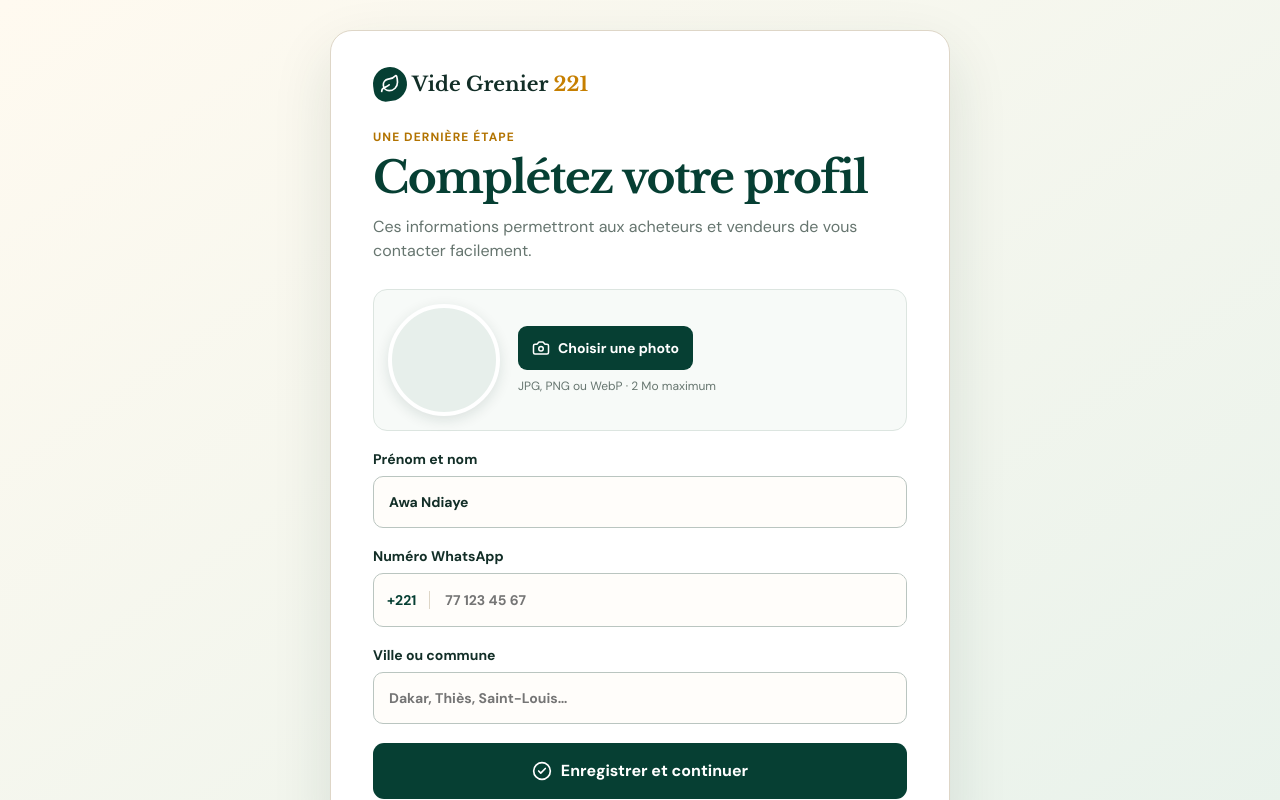
Test: profile setup page › keeps the user on the form when required fields are empty
Clear the field labelled "Prénom et nom": {"x": 640, "y": 502} left=373, top=476, right=907, bottom=528
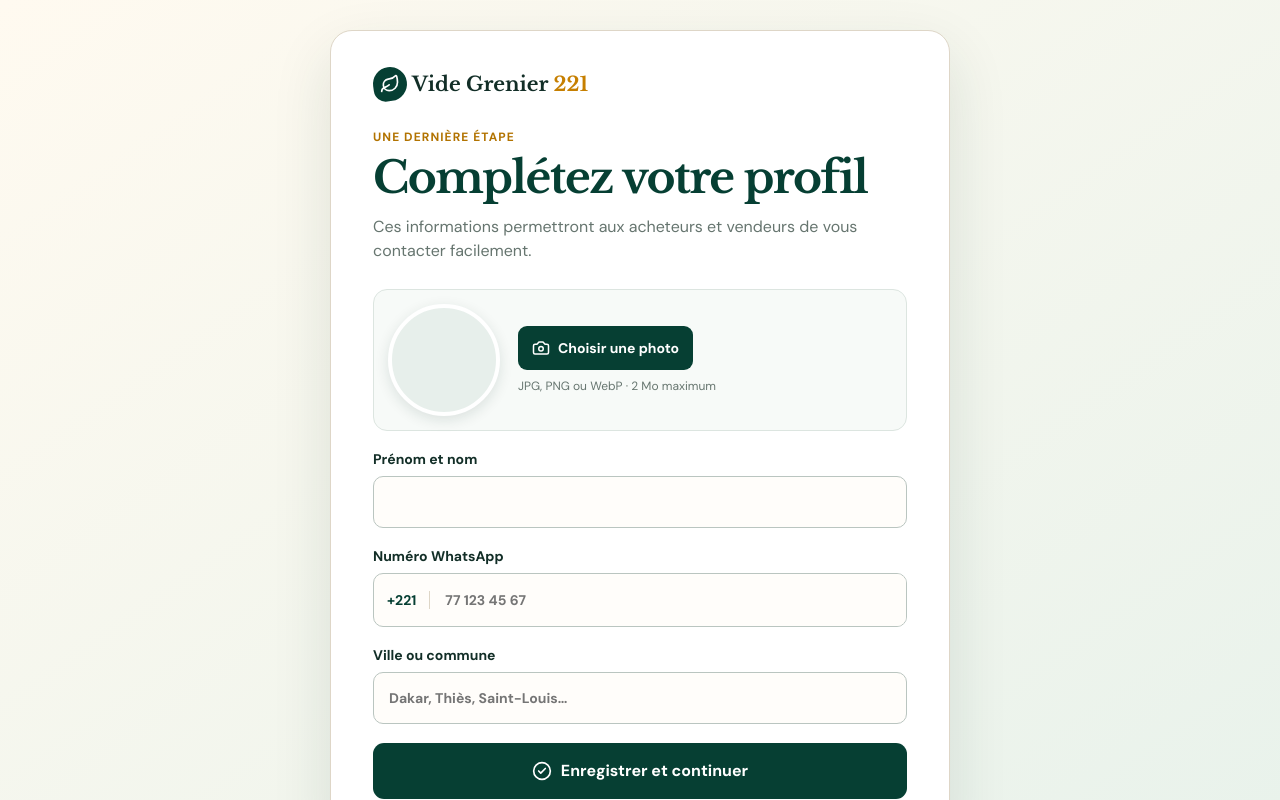
Click the button "Enregistrer et continuer": {"x": 640, "y": 770} left=373, top=742, right=907, bottom=798
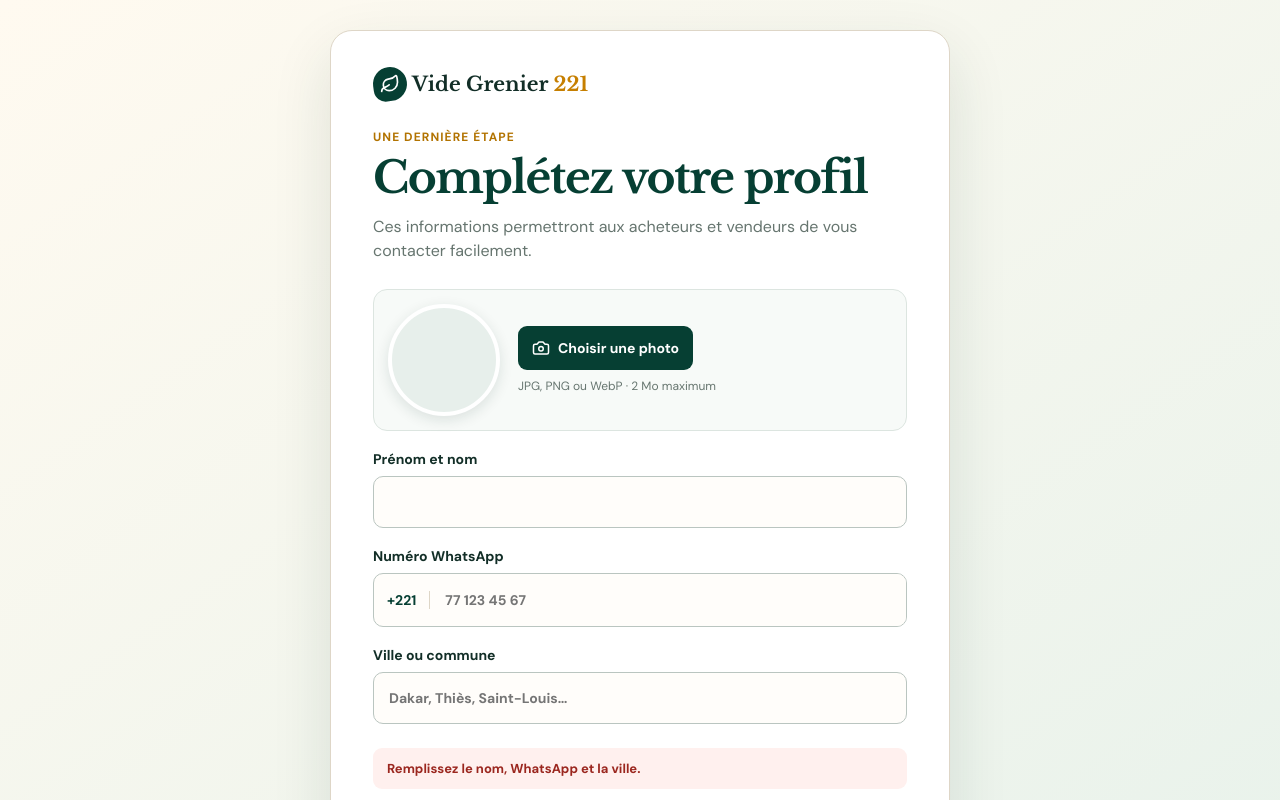
Now the message reads "Remplissez le nom, WhatsApp et la ville.", box left=387, top=760, right=640, bottom=776
